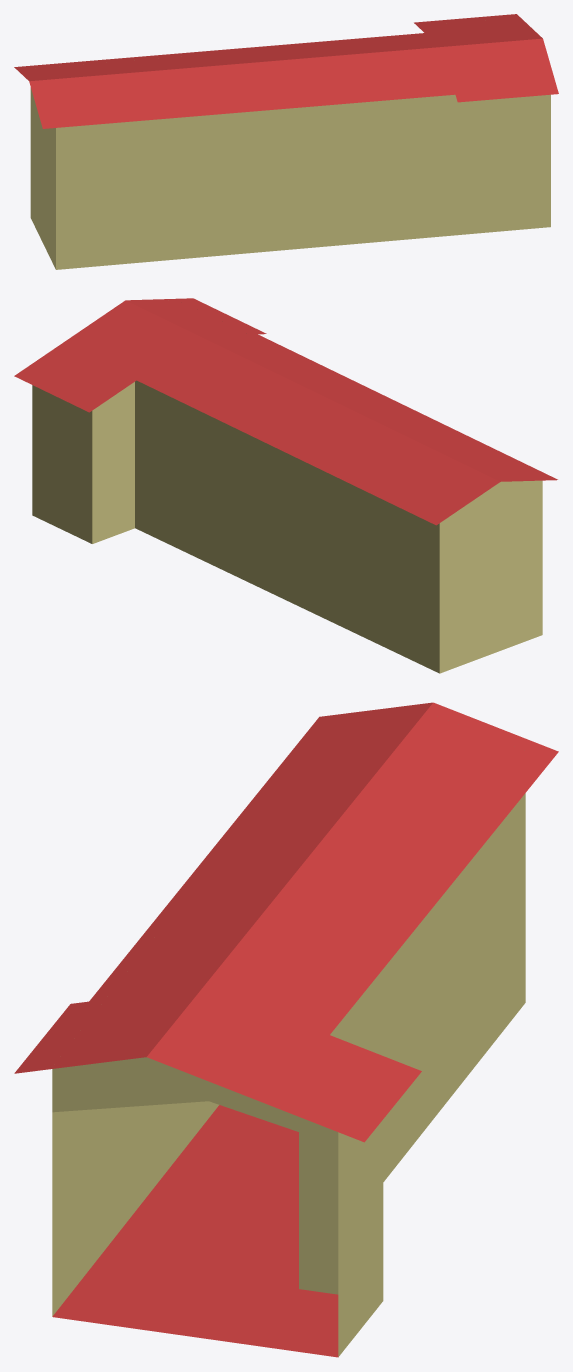
3 views of the same model, one above another, from view 1: azimuth 30°, elevation 25°; view 2: azimuth 150°, elevation 25°; view 3: azimuth 270°, elevation 25° (orthographic). The views are drawn at different scales.
Size of the model in its own units: 35.45 by 20.28 by 11.35.
